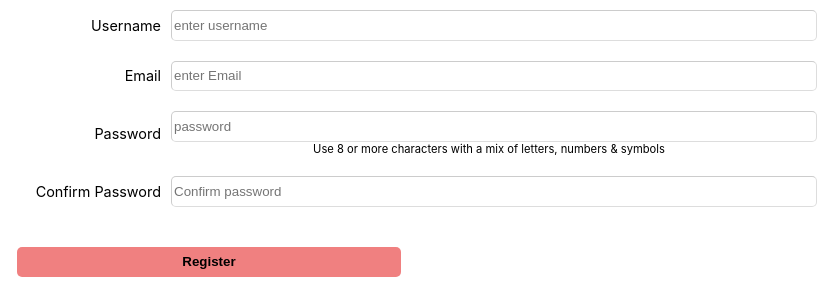
Test: RegsiterCompoent › should render error email message when form is not valid
Expected: the text "Username" is shown, 91,17 -> 161,34
Expected: the text "Email" is shown, 125,68 -> 161,84
Type "someUser" into the field labelled "Username" at (494, 25), box 171,10 -> 817,41
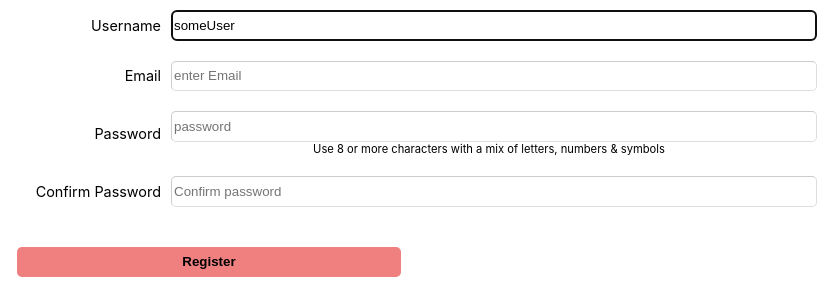
Type "someemail.com" into the field labelled "Email" at (494, 76), box 171,61 -> 817,91
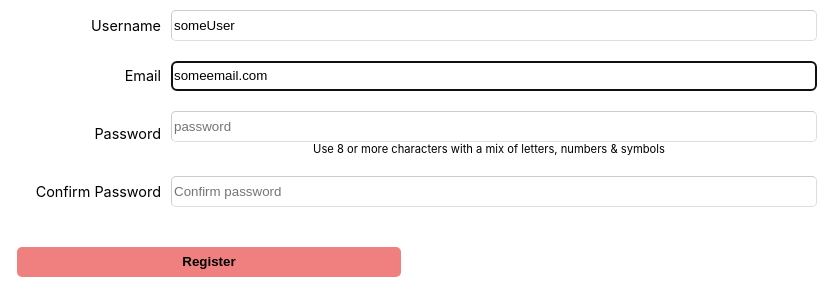
Type "somePass1234!" into the password field labelled "Password" at (494, 127), box 171,111 -> 817,142
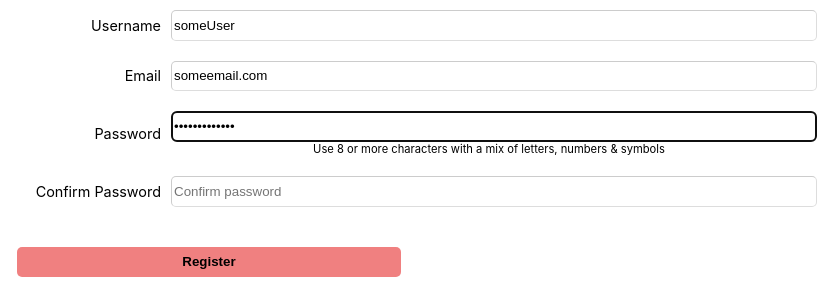
Type "somePass1234!" into the password field labelled "Confirm Password" at (494, 191), box 171,176 -> 817,207
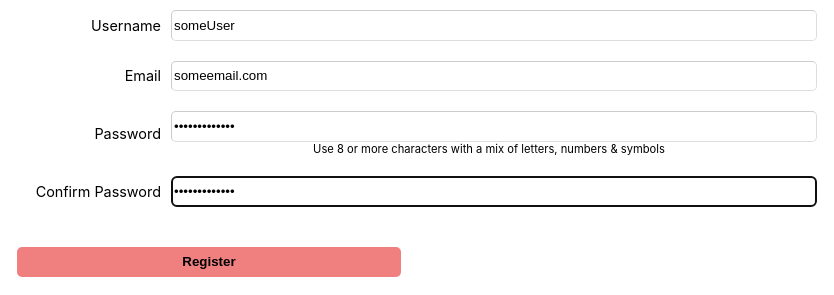
Click the button at (209, 262), box 17,247 -> 401,277
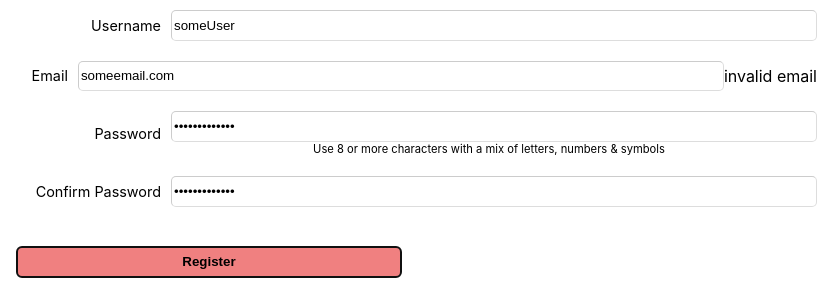
Now the text "invalid email" is shown, box 724,66 -> 817,86
